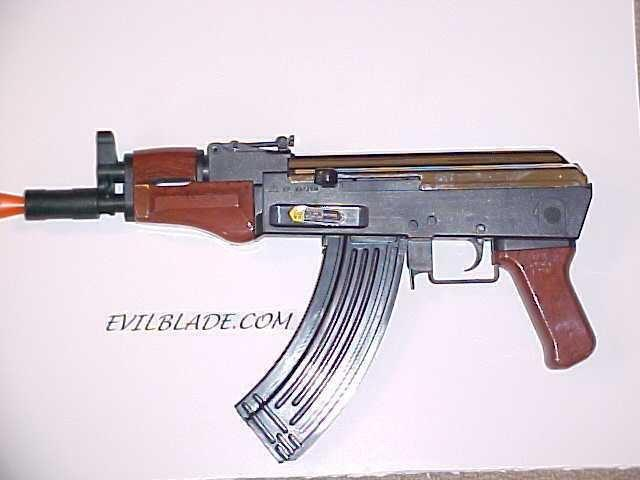heavyweapon: (17, 109, 616, 453)
